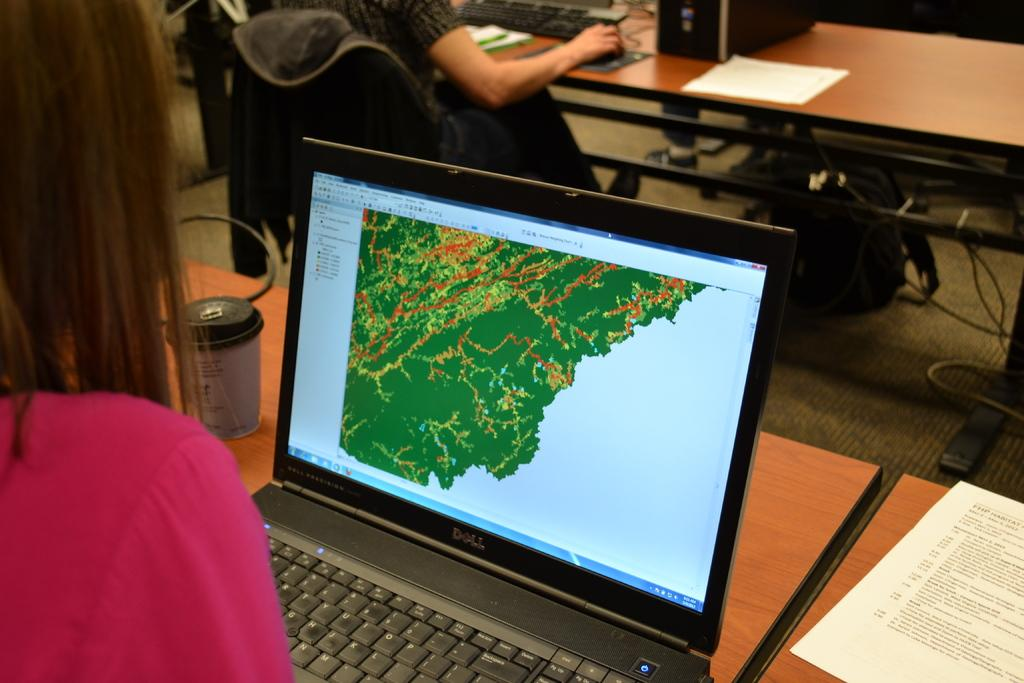Laptop: (204, 166, 820, 683)
